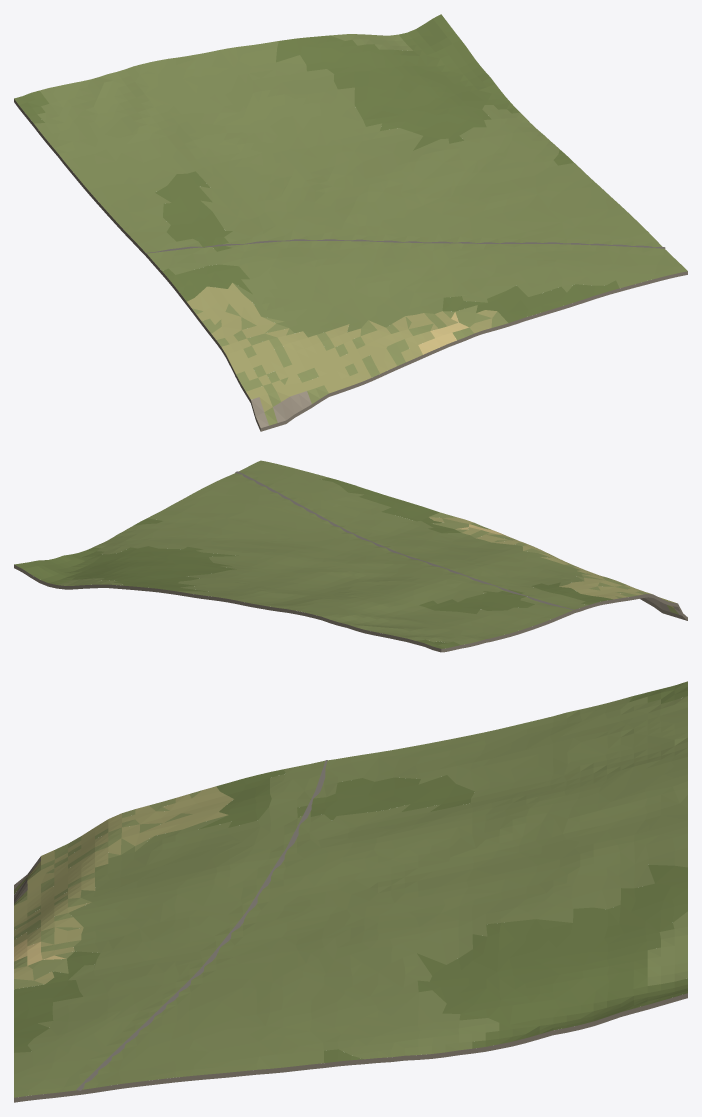
File: parca_+4_-9-uzak.glb
3 views of the same model, one above another, from view 1: azimuth 30°, elevation 25°; view 2: azimuth 150°, elevation 25°; view 3: azimuth 270°, elevation 25° (orthographic). The views are drawn at different scales.
Visible parts, largest first — view 1: parca_+4_-9_arazi_uzak, parca_+4_-9_yollar_uzak; view 2: parca_+4_-9_arazi_uzak, parca_+4_-9_yollar_uzak; view 3: parca_+4_-9_arazi_uzak, parca_+4_-9_yollar_uzak.
Part boxes in pixels (box(x1,y1,x2,y2)): parca_+4_-9_arazi_uzak: box(14, 14, 687, 431); parca_+4_-9_yollar_uzak: box(145, 239, 665, 253); parca_+4_-9_arazi_uzak: box(14, 460, 687, 652); parca_+4_-9_yollar_uzak: box(235, 471, 573, 610); parca_+4_-9_arazi_uzak: box(14, 681, 687, 1102); parca_+4_-9_yollar_uzak: box(76, 760, 327, 1090).
Size of the model in its own units: 1005 by 349 by 1000.
